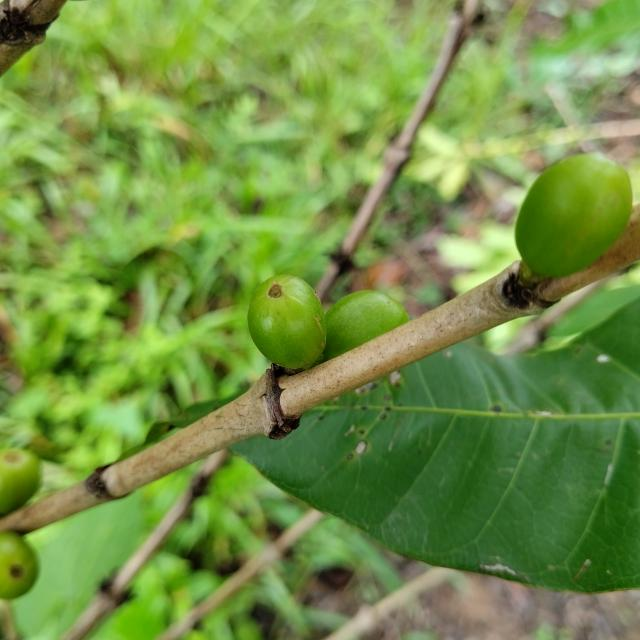green: (516, 152, 634, 277), (248, 275, 326, 369), (323, 290, 410, 361), (0, 449, 40, 516), (0, 533, 38, 601)
